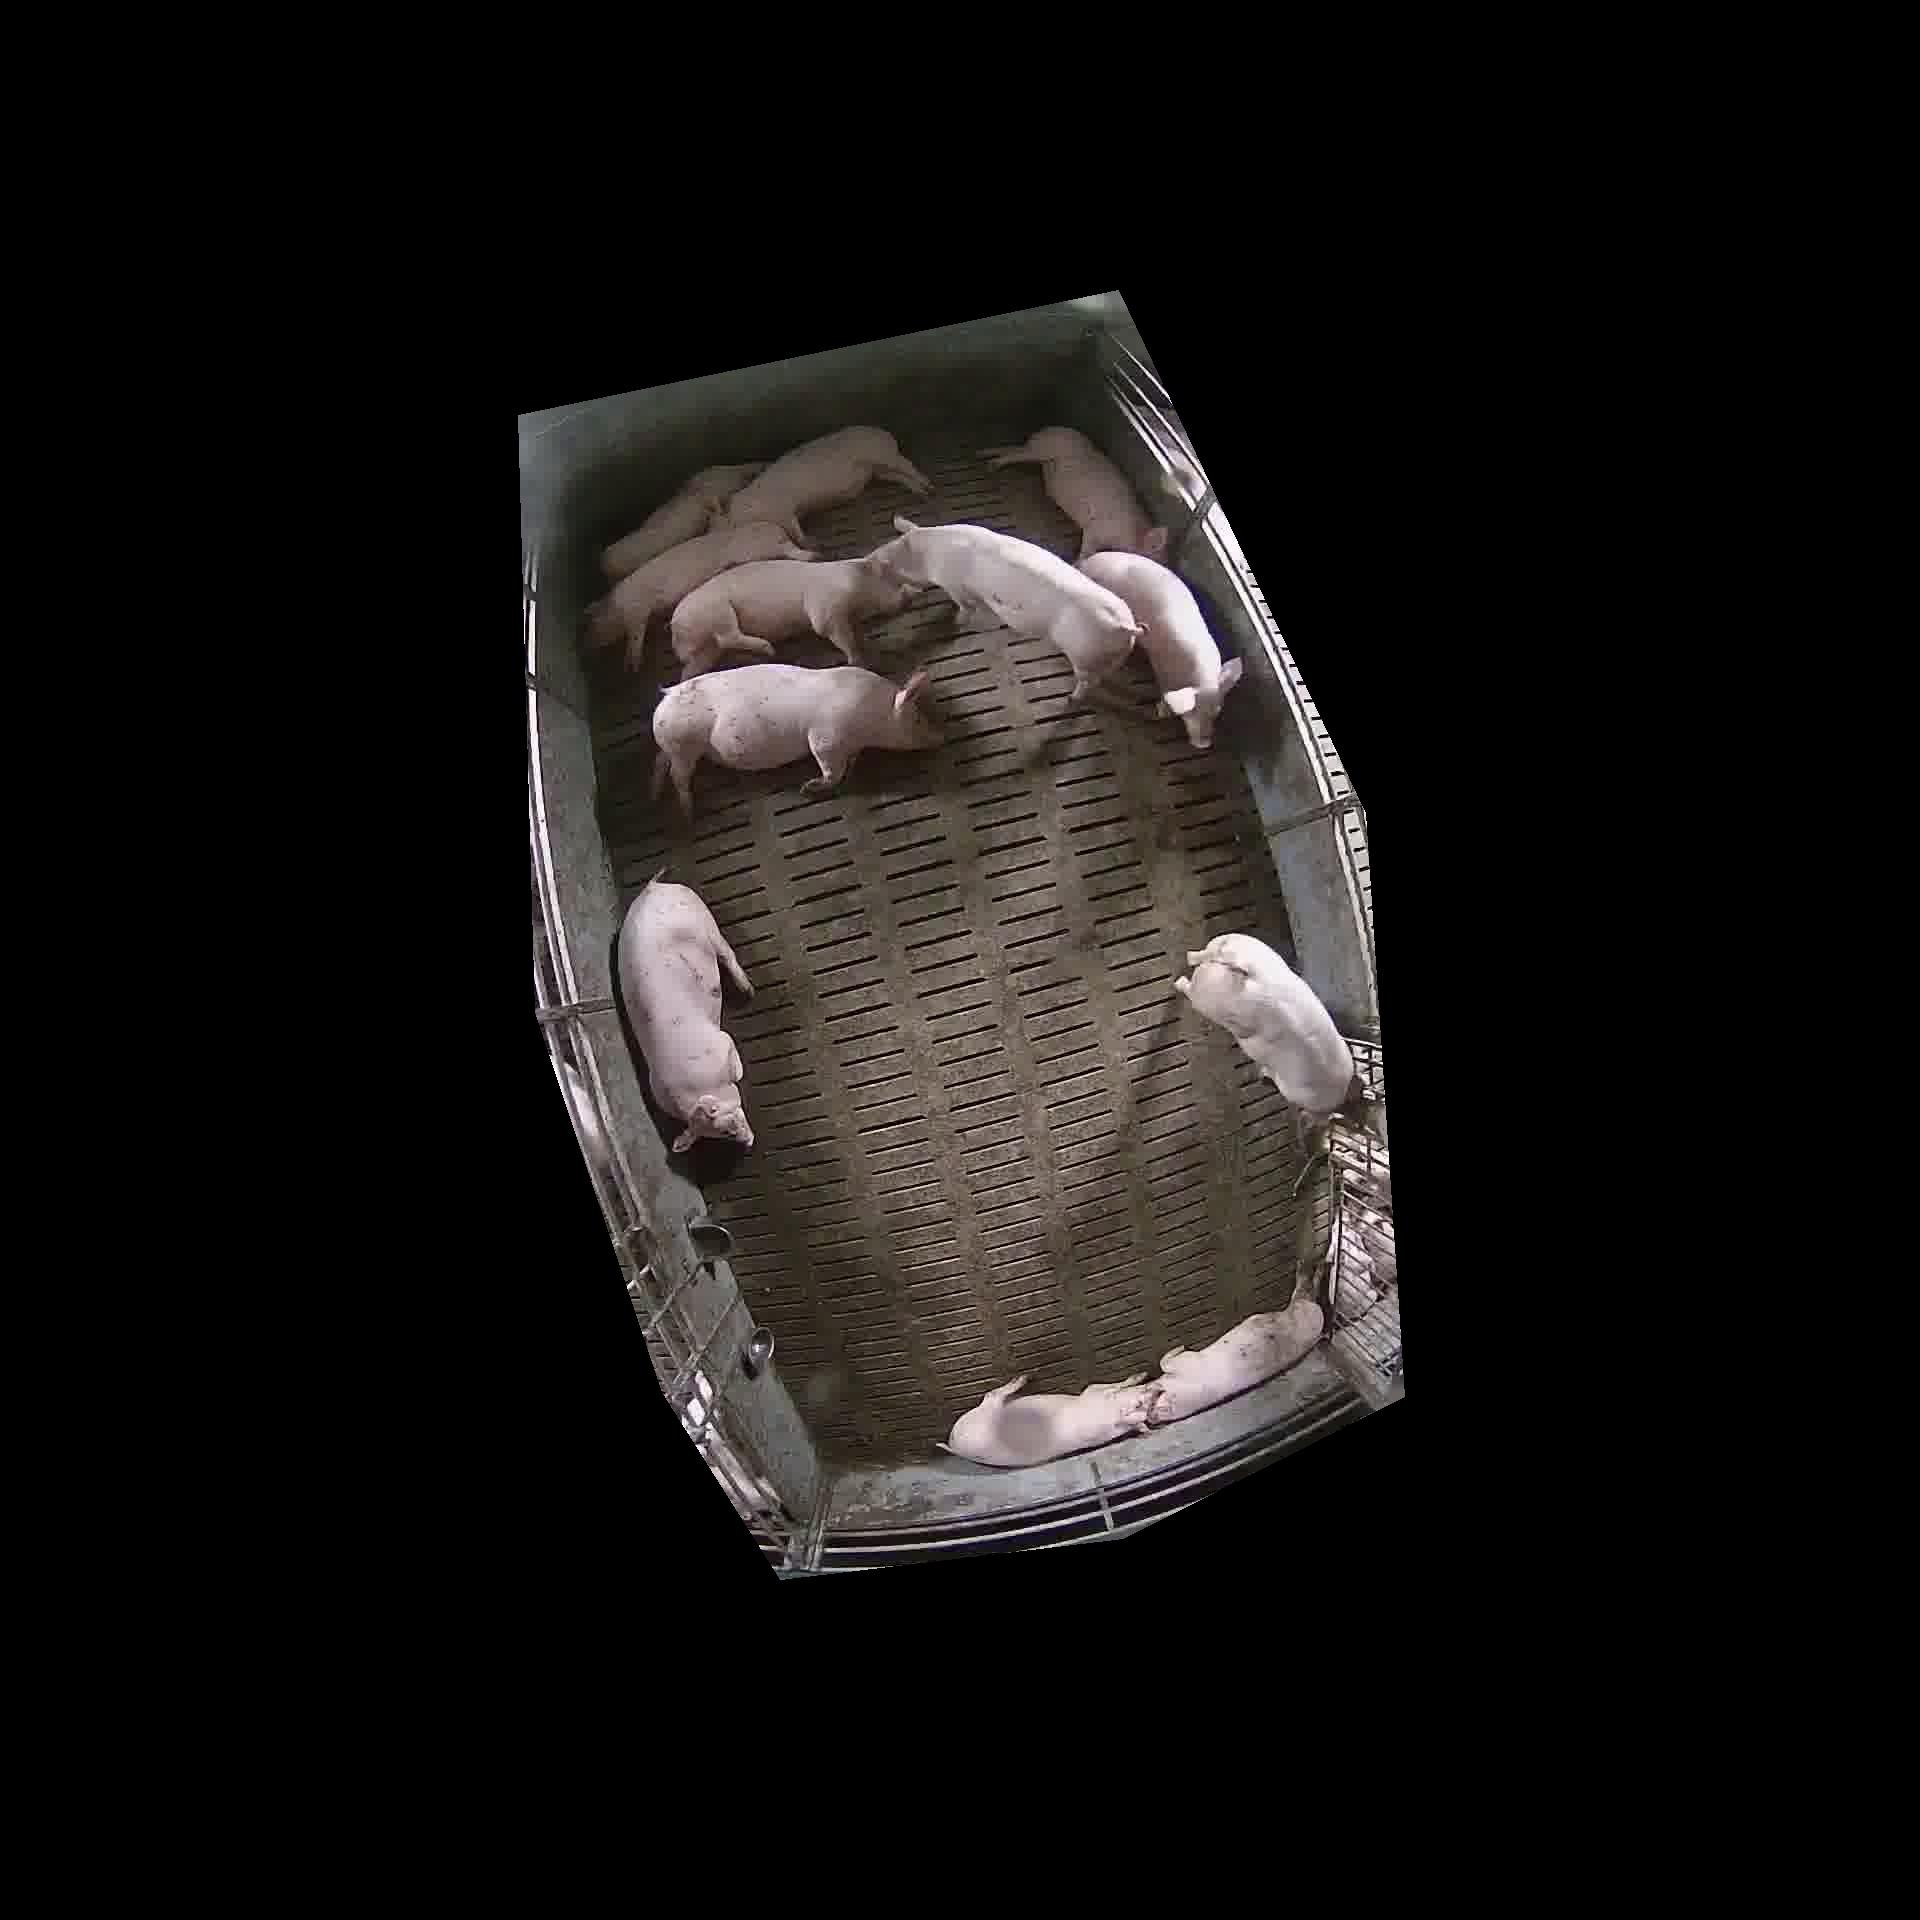pig: (869, 517, 1139, 700), (652, 665, 942, 814), (617, 879, 753, 1152), (585, 520, 811, 668), (1078, 550, 1241, 747), (1176, 934, 1354, 1115), (670, 559, 918, 679), (983, 427, 1167, 559), (723, 425, 930, 542), (1148, 1298, 1324, 1424), (942, 1371, 1153, 1463), (600, 464, 761, 582)
